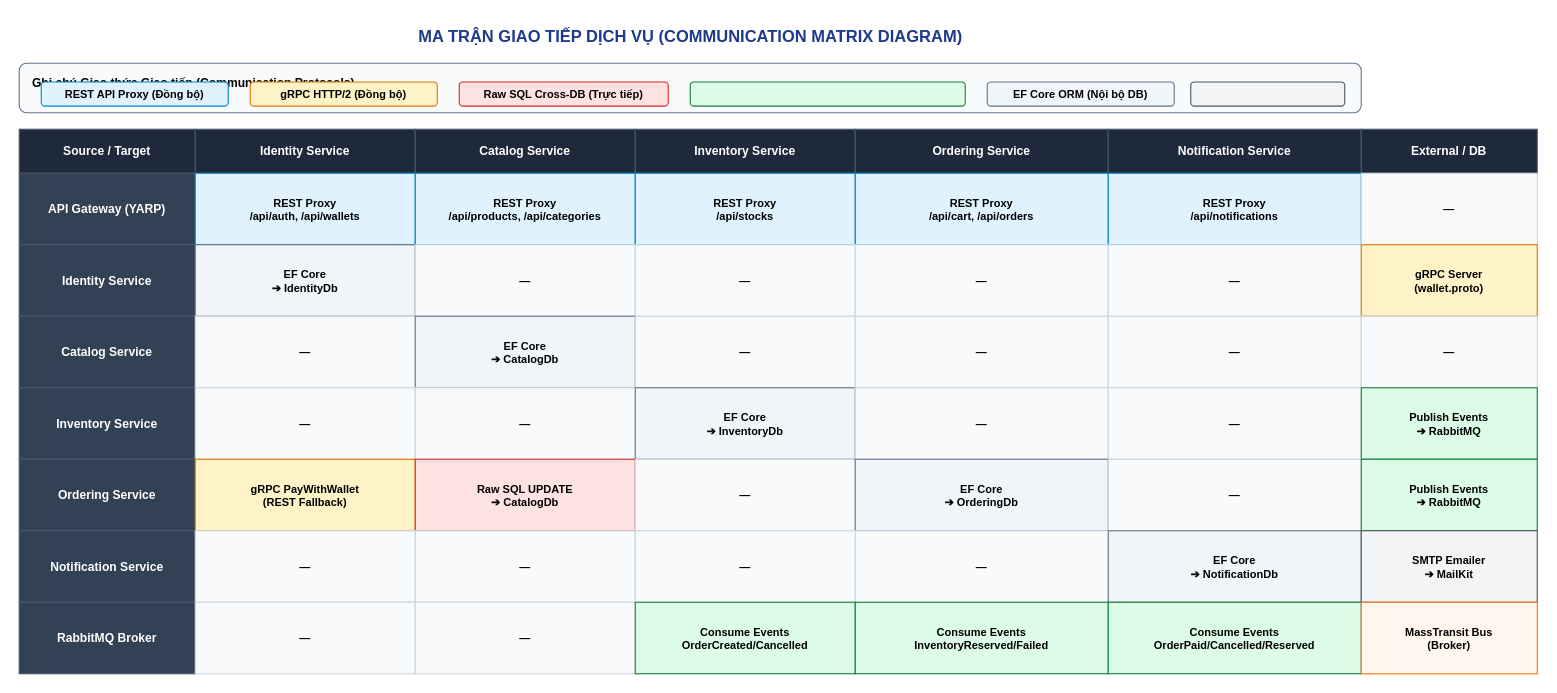
Image size: 1557x693. Some labels were removed from this diagram. The centre of each missing label's shape, as x and y in pixels:
"RabbitMQ MassTransit Event (Bất đồng bộ)" goes at pixel 827 93.
"SMTP Emailer (External)" goes at pixel 1267 93.
